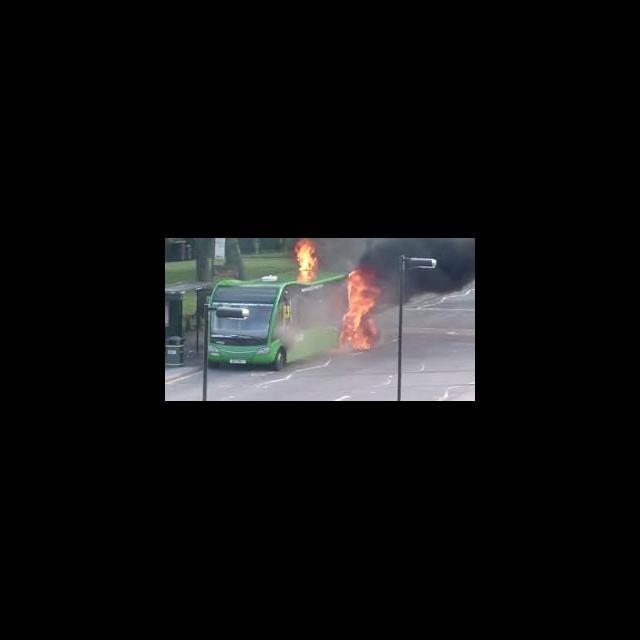Fire: (337, 266, 388, 352), (291, 238, 320, 282)
Smoke: (390, 238, 475, 306), (289, 286, 335, 362)
